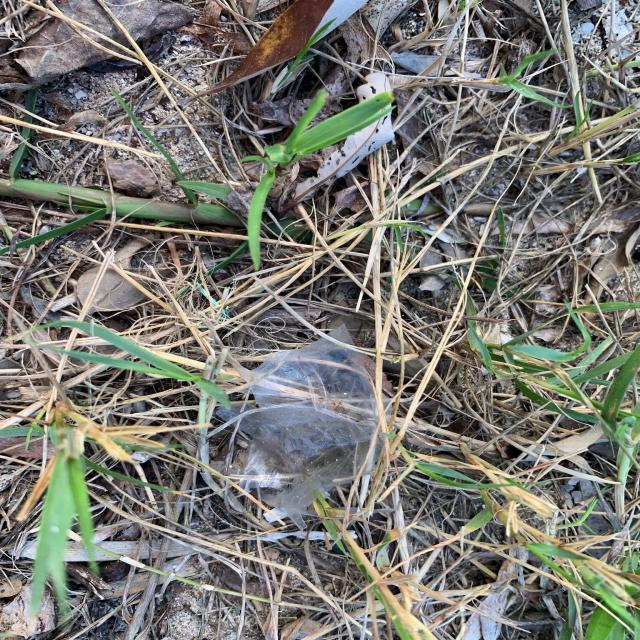litter: (233, 322, 399, 522)
